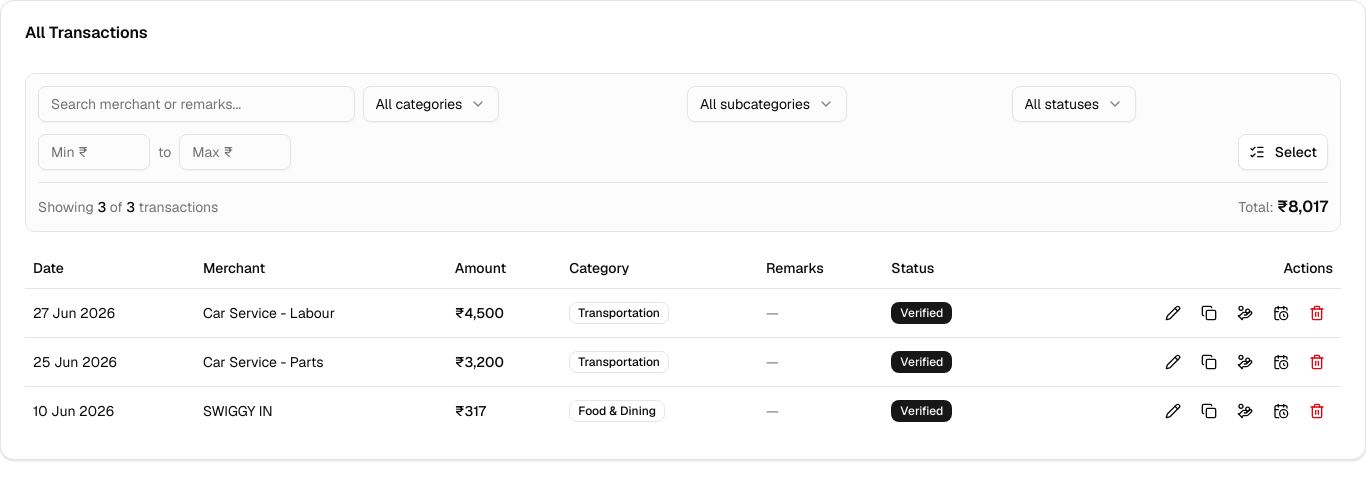
TransactionTable selection mode › disables the group button until at least two rows are selected
The image size is (1366, 478).
Click the button "Select" at (1283, 152), box [1238, 134, 1328, 170]
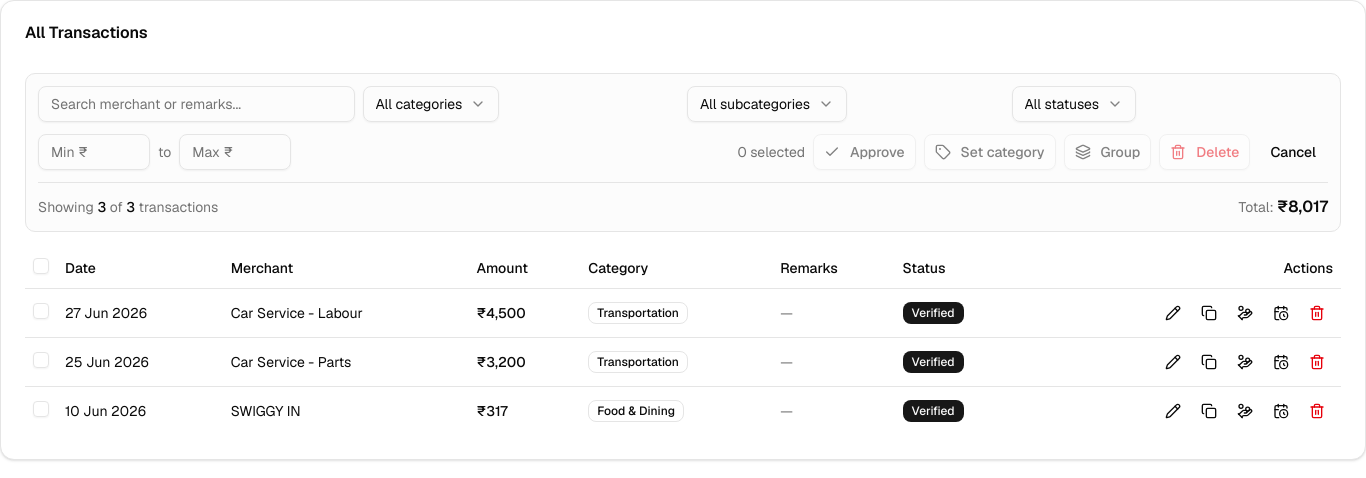
Expected: the button "Group" is disabled, [1064, 134, 1151, 170]
Click the checkbox named "Car Service - Labour" at (41, 310), box [33, 302, 49, 318]
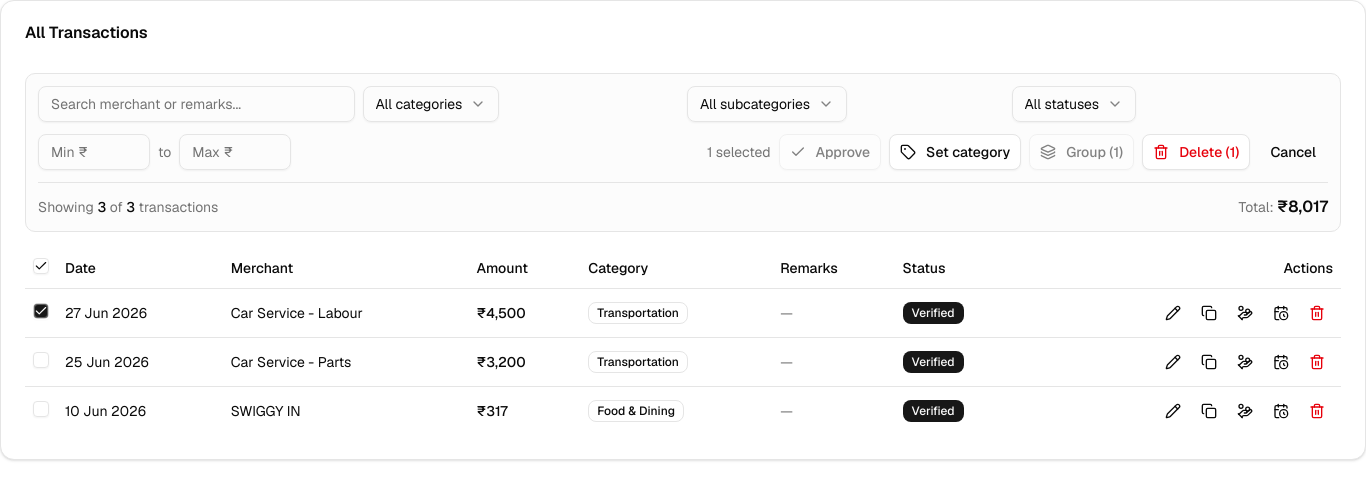
Expected: the button "Group (1)" is disabled, [1029, 134, 1134, 170]
Click the checkbox named "Car Service - Parts" at (41, 360), box [33, 352, 49, 368]
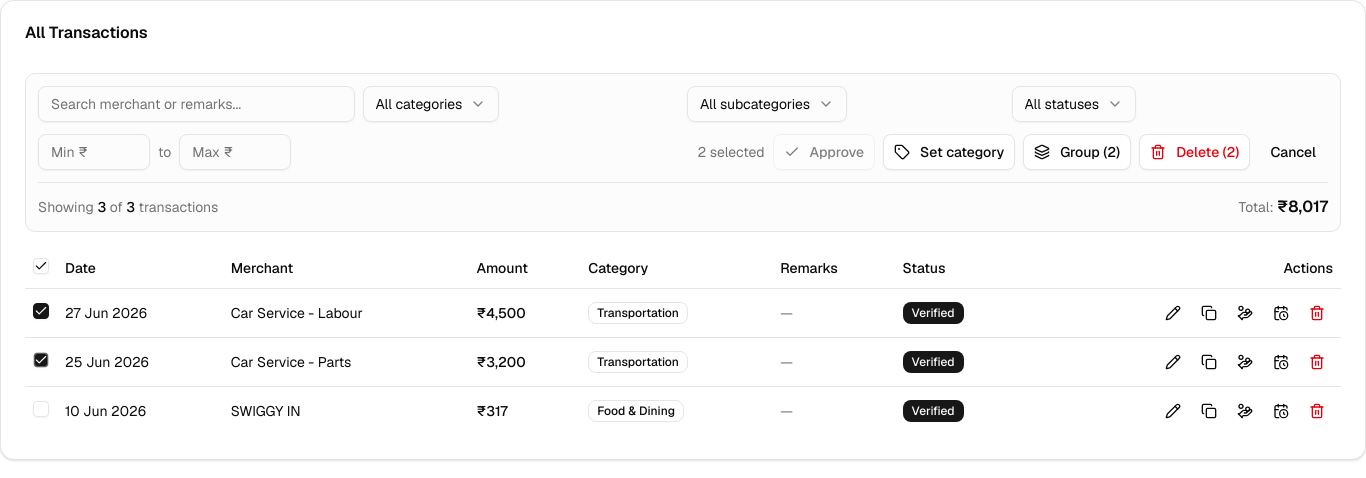
Expected: the button "Group (2)" is enabled, [1023, 134, 1131, 170]
